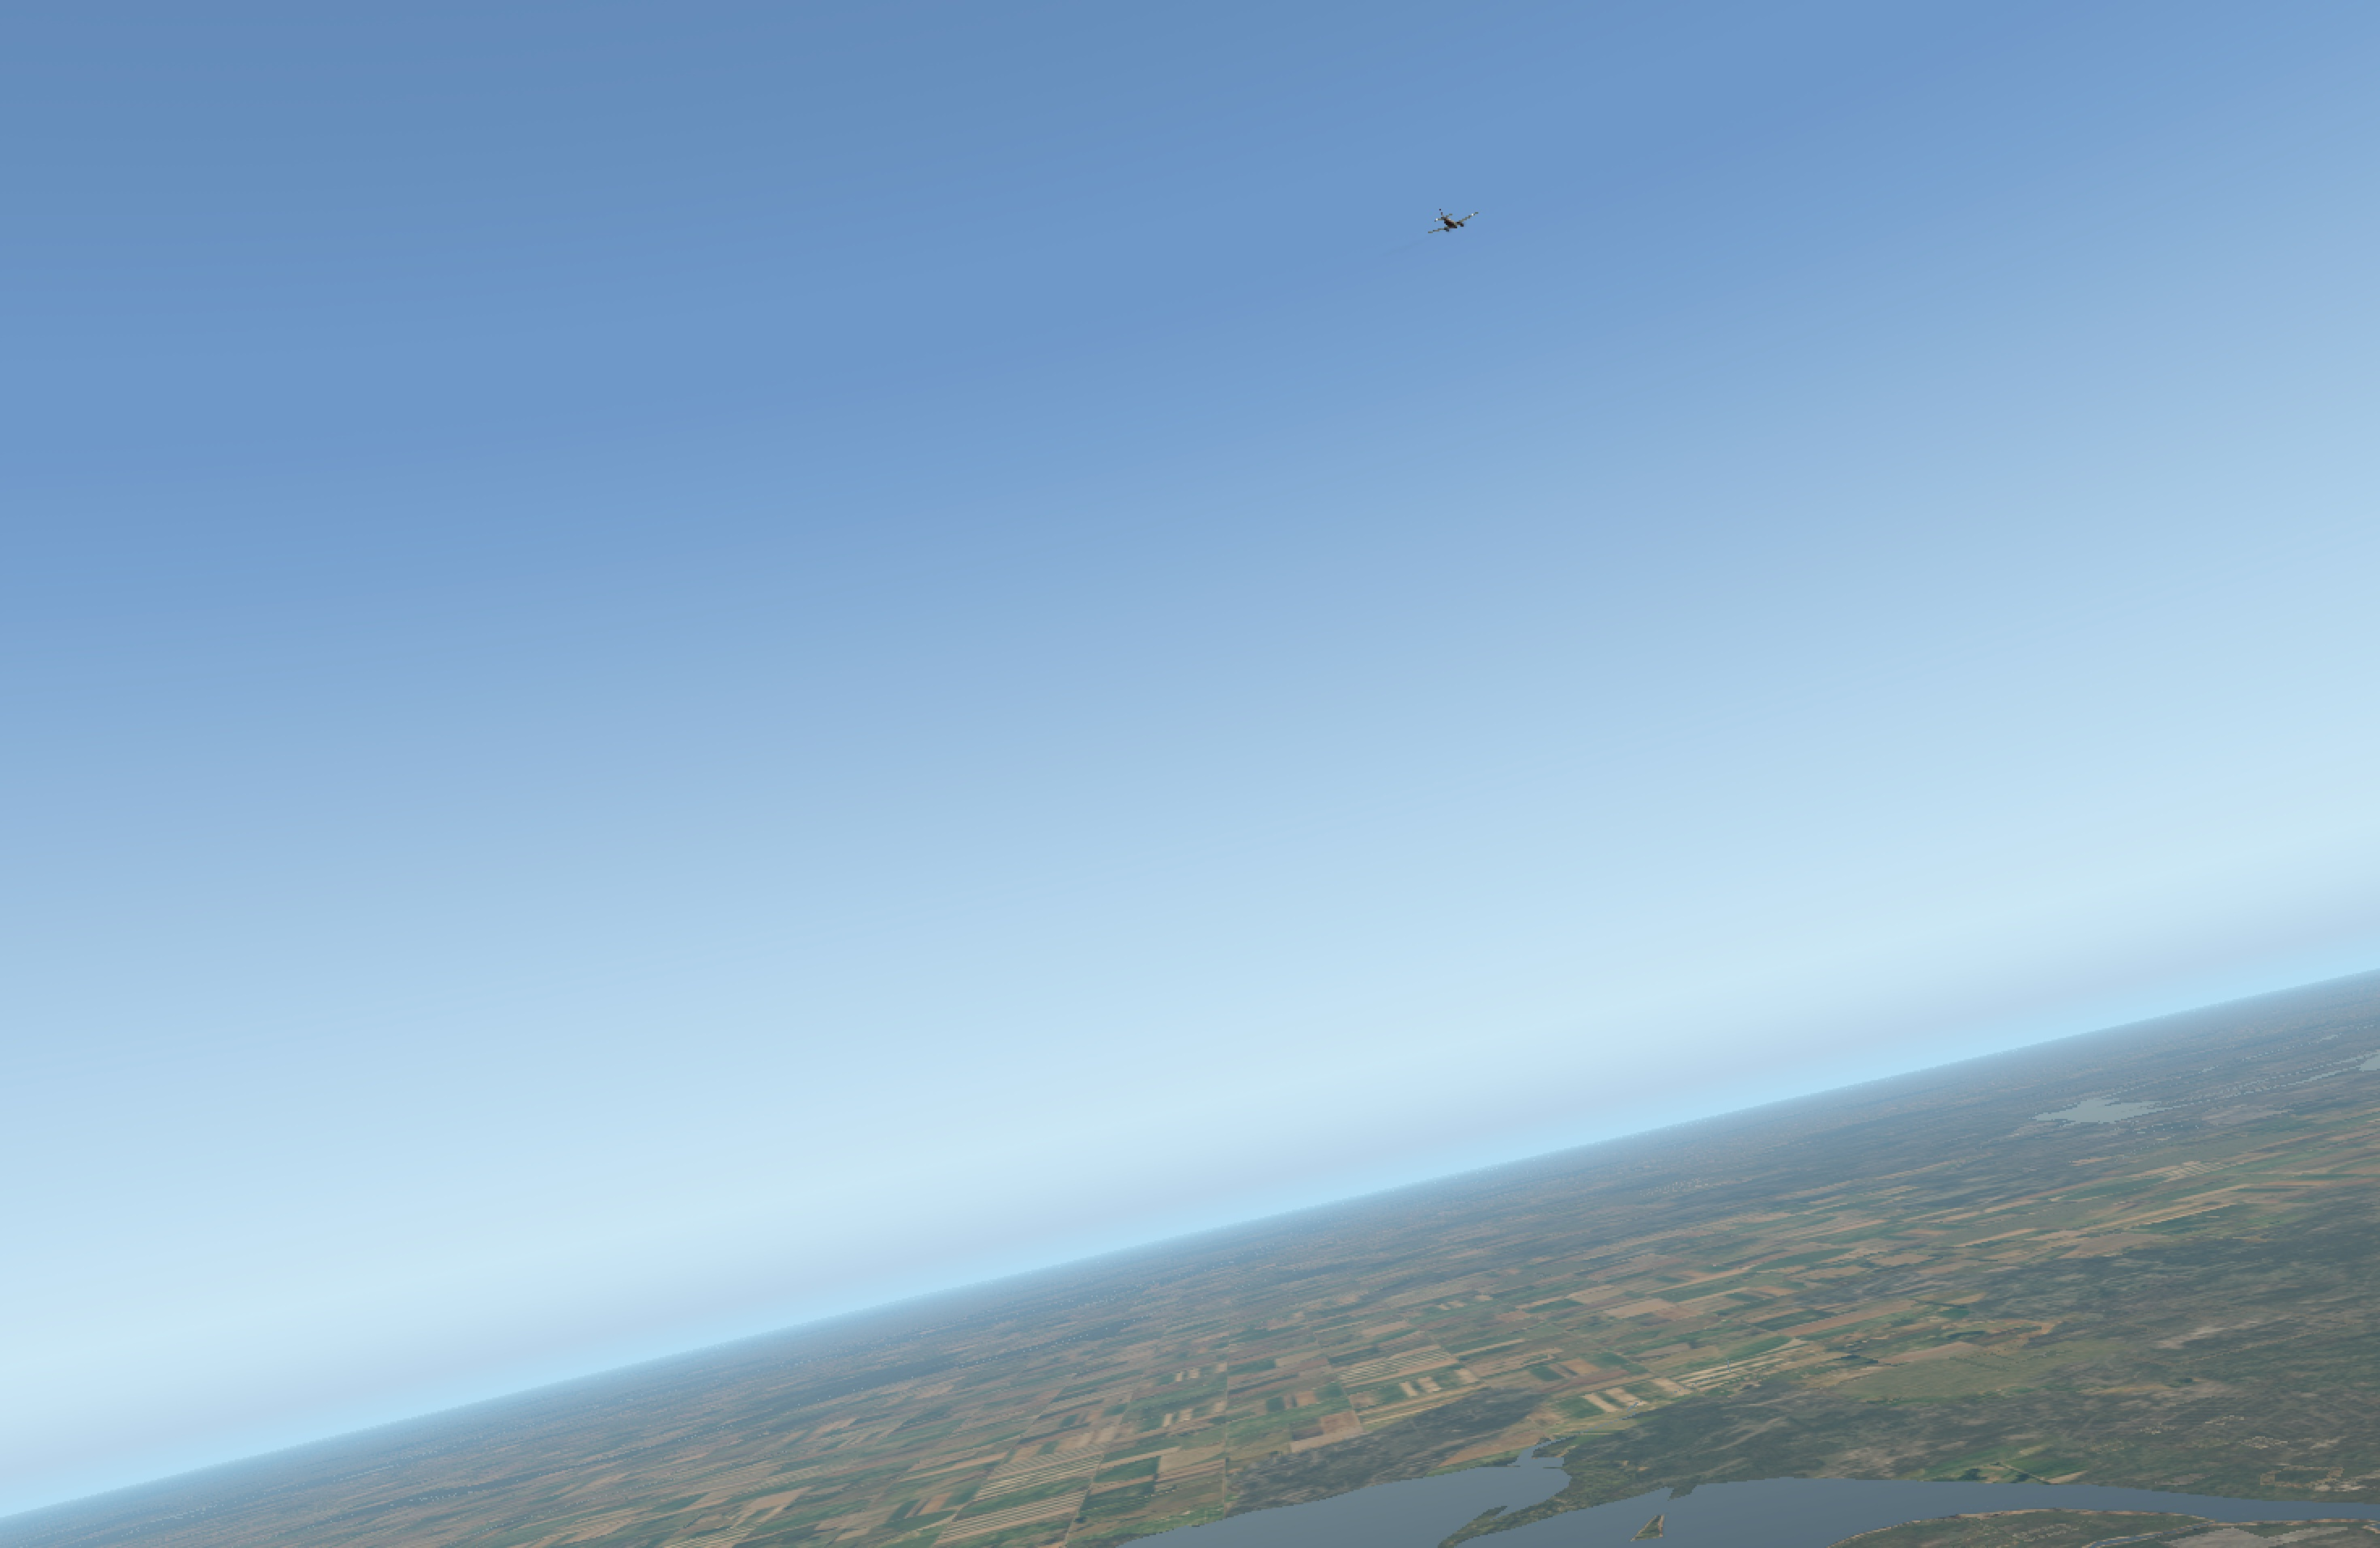aircraft: (1424, 215, 1481, 238)
